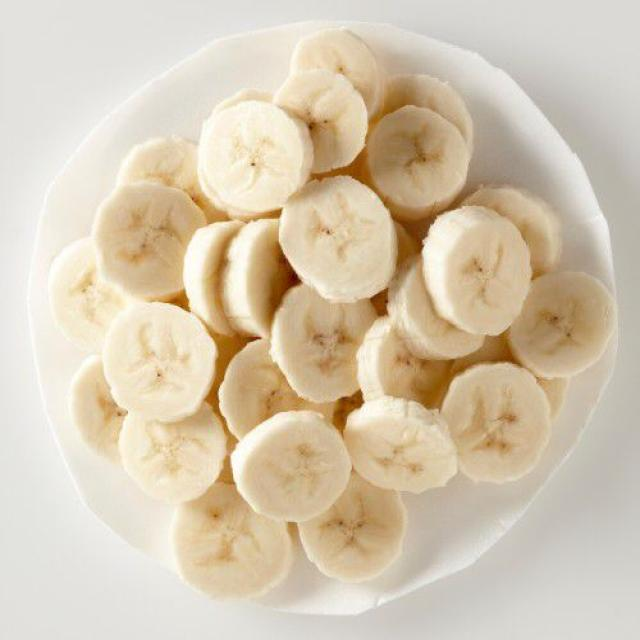banana slice: (280, 177, 396, 301), (423, 206, 531, 335), (172, 484, 293, 599), (103, 302, 216, 421), (232, 411, 351, 522), (93, 183, 206, 299), (442, 363, 550, 483), (199, 100, 313, 213), (272, 286, 377, 402), (299, 473, 407, 582), (367, 105, 469, 220), (219, 339, 332, 439), (509, 273, 615, 378), (345, 397, 456, 493), (120, 403, 226, 502), (388, 256, 483, 360), (274, 69, 368, 173), (48, 238, 129, 352), (118, 137, 225, 221), (463, 186, 561, 277), (222, 219, 294, 336), (358, 317, 450, 408), (291, 28, 385, 117), (184, 221, 243, 335), (384, 74, 473, 148), (70, 357, 126, 461), (198, 162, 271, 221), (198, 164, 263, 221), (208, 335, 249, 408), (451, 332, 513, 375), (213, 89, 272, 114), (537, 379, 569, 422), (332, 390, 363, 431), (395, 221, 421, 266), (217, 438, 236, 484), (167, 292, 189, 310)
